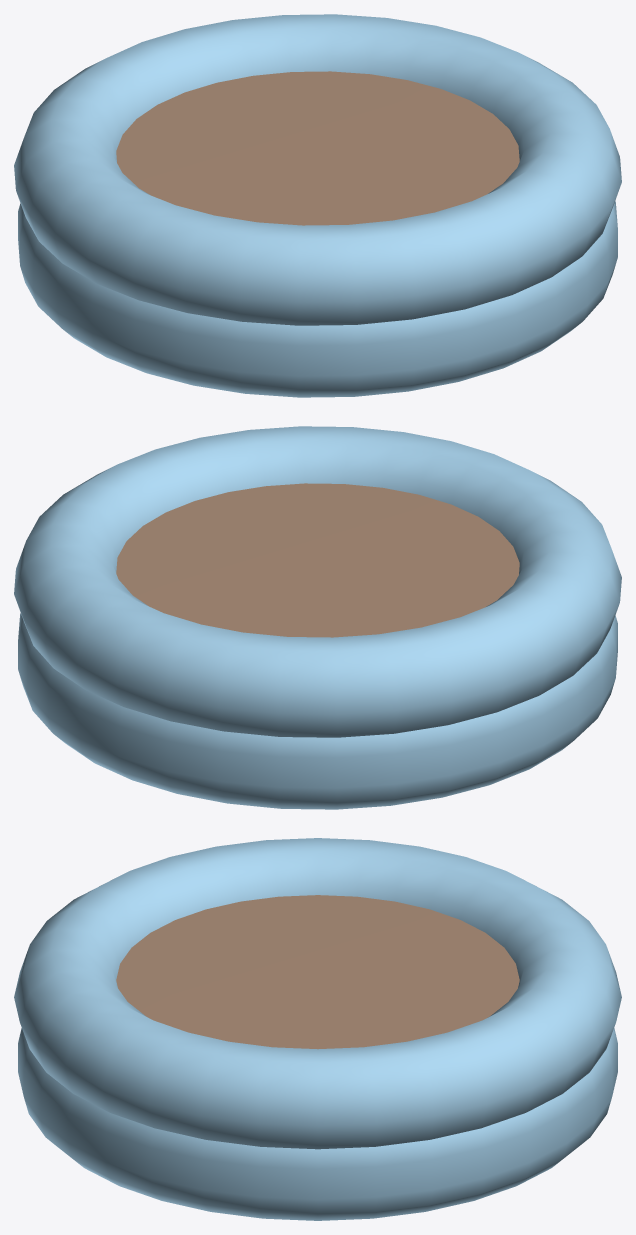
The model's file is bowlBlue.glb.
The picture shows the model from 3 angles, top to bottom: view 1: azimuth 30°, elevation 25°; view 2: azimuth 150°, elevation 25°; view 3: azimuth 270°, elevation 25°; orthographic projection.
Parts seen in each view (by area): view 1: Bowl rim, Food, Bowl base; view 2: Bowl rim, Food, Bowl base; view 3: Bowl rim, Food, Bowl base.
Boxes of the visible parts, left/top/right/bottom form: Bowl rim: left=14, top=14, right=621, bottom=325; Food: left=116, top=71, right=519, bottom=225; Bowl base: left=18, top=201, right=617, bottom=397; Bowl rim: left=14, top=426, right=621, bottom=737; Food: left=116, top=483, right=519, bottom=637; Bowl base: left=18, top=613, right=617, bottom=809; Bowl rim: left=14, top=838, right=621, bottom=1149; Food: left=116, top=895, right=519, bottom=1049; Bowl base: left=18, top=1028, right=617, bottom=1220.
Bounding box in the file's own units: 0.73 × 0.2068 × 0.73.
